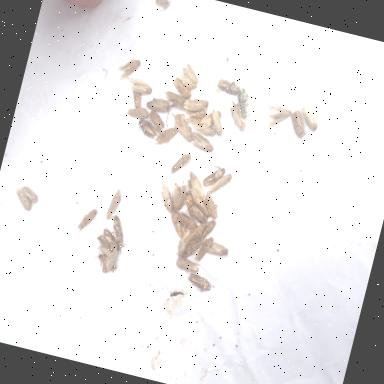pbw: (256, 97, 293, 134), (201, 146, 230, 192), (103, 212, 130, 255), (164, 110, 198, 144), (152, 173, 180, 213), (295, 98, 323, 135), (178, 167, 210, 199), (284, 107, 314, 141), (181, 88, 216, 116), (86, 246, 120, 273), (224, 100, 252, 132), (115, 54, 143, 84), (206, 166, 234, 196), (232, 86, 256, 120), (174, 60, 202, 89), (168, 148, 193, 180), (74, 204, 98, 235), (198, 104, 223, 133), (199, 190, 223, 220), (152, 123, 179, 149), (10, 184, 35, 212), (187, 130, 216, 154), (121, 74, 154, 95), (166, 207, 188, 238), (133, 116, 159, 142), (104, 186, 122, 222), (194, 232, 214, 264), (184, 219, 206, 248), (144, 93, 172, 115), (174, 172, 190, 210), (156, 88, 186, 108), (206, 109, 228, 136), (179, 188, 198, 218), (215, 75, 242, 96), (184, 271, 212, 291), (188, 195, 212, 218), (100, 245, 118, 275), (169, 76, 193, 98), (98, 227, 122, 249), (18, 184, 42, 205), (204, 240, 231, 258), (184, 204, 208, 224), (174, 255, 198, 274), (126, 102, 150, 120), (192, 119, 217, 136), (176, 226, 190, 256), (168, 181, 183, 209), (177, 211, 199, 230), (93, 233, 114, 250), (146, 0, 173, 13), (128, 90, 144, 109), (202, 217, 216, 234), (97, 243, 112, 256)
